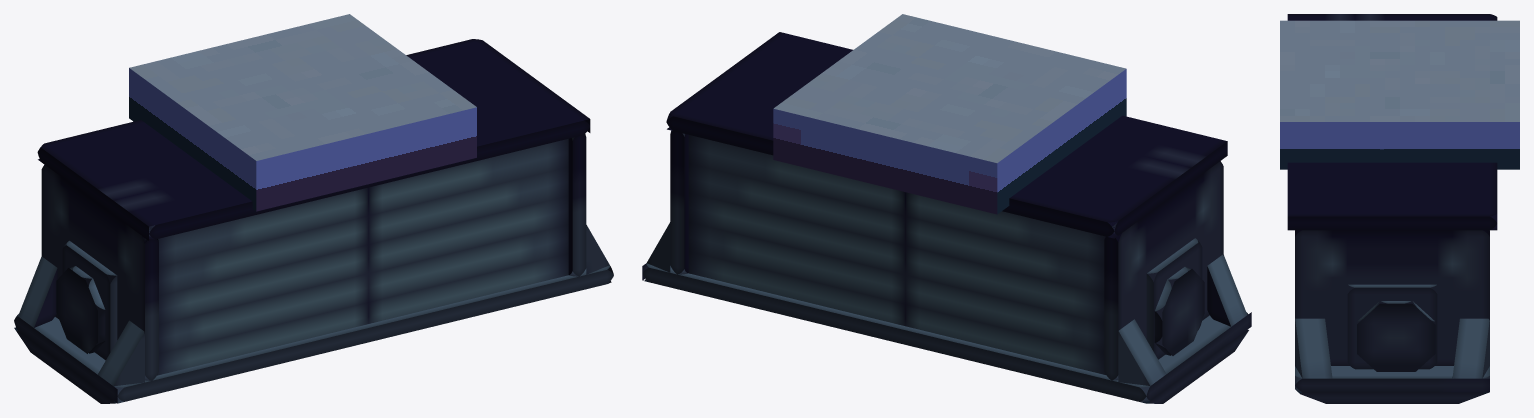
The model's file is m1_generator.obj.
3 renders of one model, left to right at view 1: azimuth 30°, elevation 25°; view 2: azimuth 150°, elevation 25°; view 3: azimuth 270°, elevation 25°, orthographic. The views are drawn at different scales.
Parts seen in each view (by area): view 1: cube, cube_selection; view 2: cube, cube_selection; view 3: cube, cube_selection.
Part boxes in pixels (x1,y1,x2,y2): cube: (37, 14, 590, 380); cube_selection: (14, 225, 613, 403); cube: (666, 14, 1227, 380); cube_selection: (642, 222, 1251, 403); cube: (1280, 14, 1519, 371); cube_selection: (1295, 318, 1489, 403).
Size of the model in its own units: 2.25 by 0.9913 by 1.
